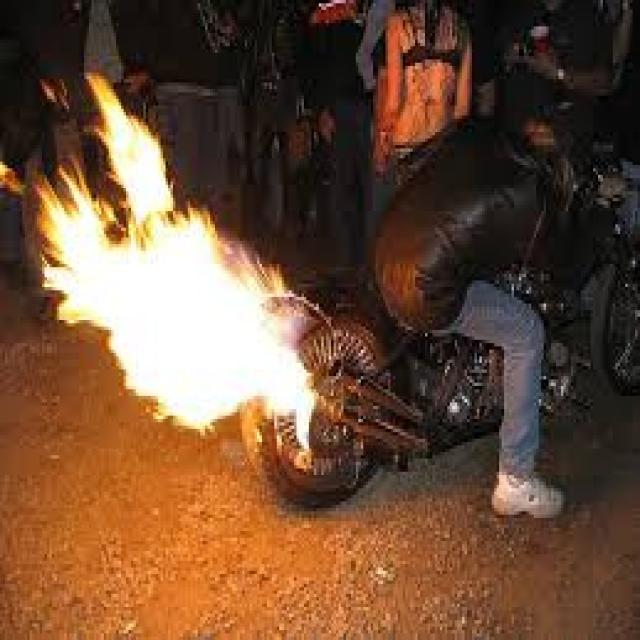fire: (107, 200, 216, 436), (217, 366, 315, 453), (41, 230, 129, 324), (214, 290, 306, 370), (212, 233, 294, 297), (57, 151, 116, 233), (108, 131, 166, 201), (126, 167, 176, 222), (84, 72, 126, 119), (34, 174, 67, 231), (91, 115, 139, 149)
